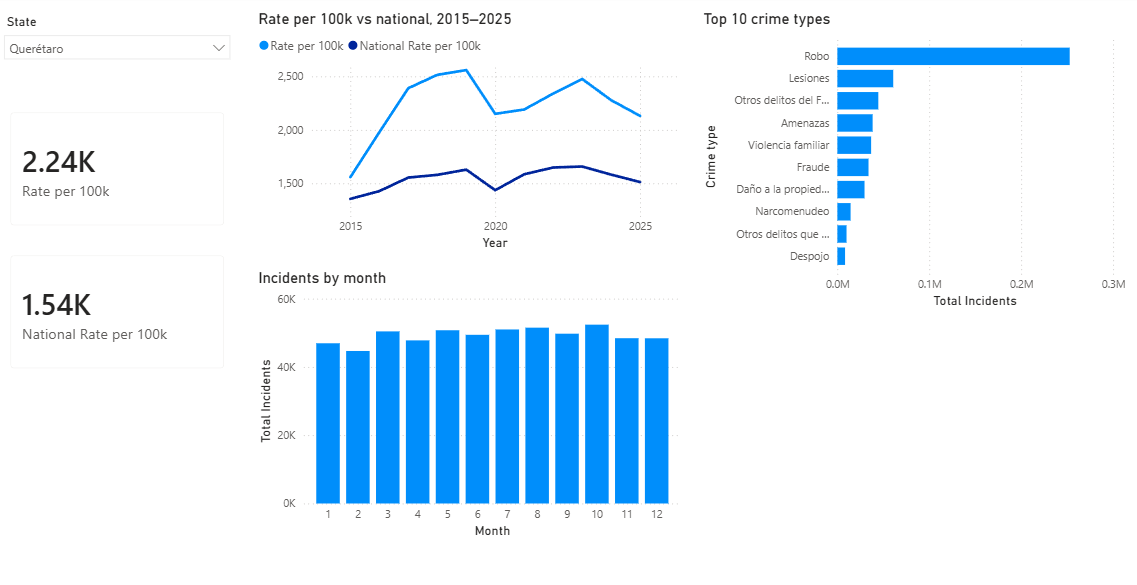

This screenshot's page, from the dashboard's own definition file:
{"tool":"powerbi","page":{"name":"State Deep Dive","canvas":[1280,720],"ordinal":1},"visuals":[{"type":"slicer","fields":{"Values":["dim_state.state_name"]},"box":[0,16,272,96],"z":0},{"type":"cardVisual","fields":{"Data":["_Measures.Rate per 100k"]},"box":[0,112,272,160],"z":1000},{"type":"cardVisual","fields":{"Data":["_Measures.National Rate per 100k"]},"box":[0,272,272,160],"z":2000},{"type":"lineChart","title":"Rate per 100k vs national, 2015–2025","fields":{"Category":["dim_year.year"],"Y":["_Measures.Rate per 100k","_Measures.National Rate per 100k"]},"box":[288,16,480,272],"z":3000},{"type":"clusteredBarChart","title":"Top 10 crime types","fields":{"Category":["fact_incidents.crime_type"],"Y":["_Measures.Total Incidents"]},"box":[784,16,480,336],"z":4000},{"type":"clusteredColumnChart","title":"Incidents by month","fields":{"Category":["fact_incidents.month"],"Y":["_Measures.Total Incidents"]},"box":[288,304,480,304],"z":5000}]}

Visuals, with their boxes on the page's 1280x720 design canvas (x1, y1, x2, y2). These are canvas units, not pixel positions in the 1137x585 screenshot, which may show the page scaled, cropped or inside an application window:
slicer - dim_state.state_name: <box>0,16,272,112</box>
cardVisual - _Measures.Rate per 100k: <box>0,112,272,272</box>
cardVisual - _Measures.National Rate per 100k: <box>0,272,272,432</box>
"Rate per 100k vs national, 2015–2025" lineChart: <box>288,16,768,288</box>
"Top 10 crime types" clusteredBarChart: <box>784,16,1264,352</box>
"Incidents by month" clusteredColumnChart: <box>288,304,768,608</box>
